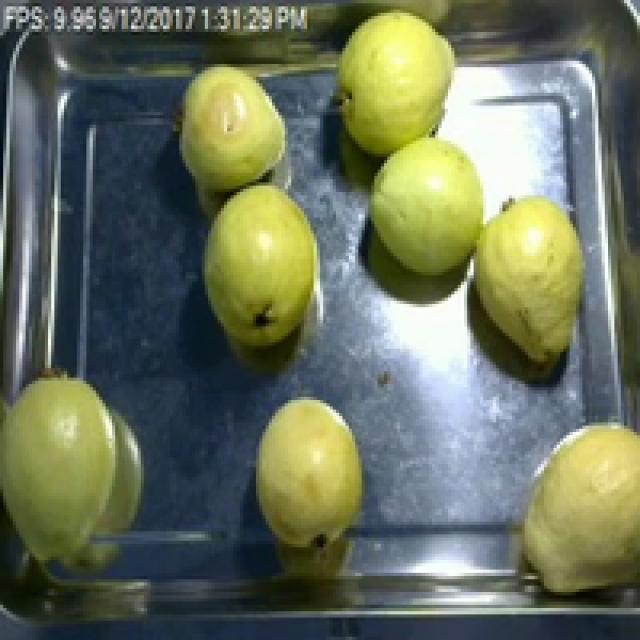Fruit: (0, 362, 157, 586), (451, 176, 608, 394), (502, 403, 640, 611), (192, 172, 333, 362), (333, 0, 470, 179), (364, 125, 506, 294), (246, 387, 374, 557), (170, 58, 298, 198)
